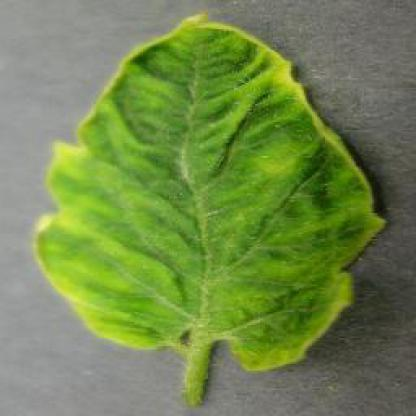bad leaf: (33, 140, 92, 277), (324, 130, 388, 249), (68, 283, 169, 344), (205, 313, 315, 366), (181, 8, 262, 59), (262, 50, 306, 112), (311, 257, 351, 325), (259, 146, 307, 183)
